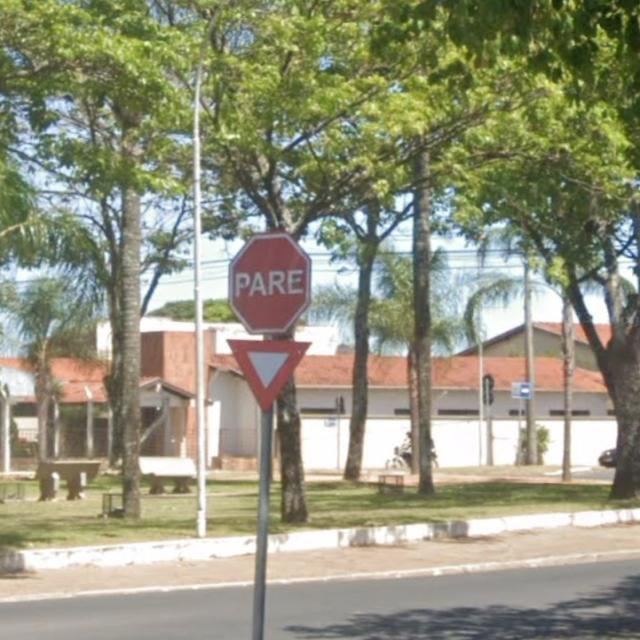stop: (187, 211, 336, 345)
